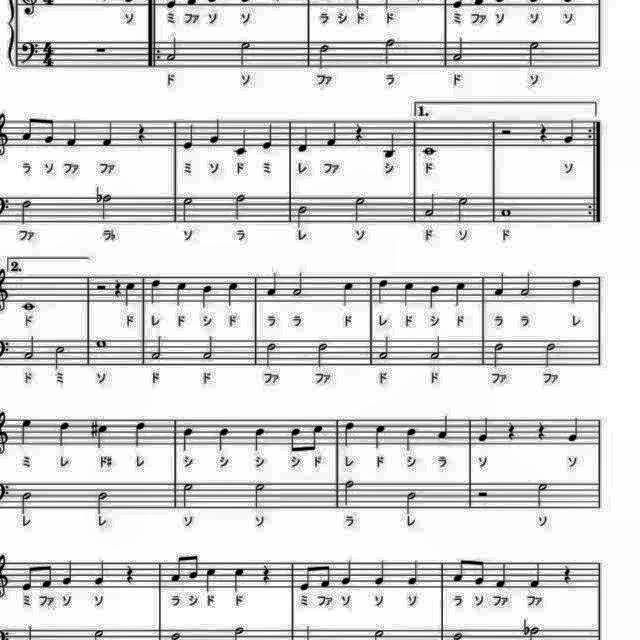Bass-clef: (19, 40, 41, 68)
Diez: (112, 278, 125, 302)
Eighth-note: (309, 422, 327, 454), (168, 552, 186, 584), (41, 116, 58, 148), (19, 114, 36, 146), (450, 555, 468, 585), (39, 558, 55, 590), (286, 423, 302, 455), (318, 560, 334, 592), (20, 562, 36, 594), (184, 551, 200, 581), (470, 556, 486, 586), (296, 562, 312, 592)
Full-note: (20, 301, 40, 315), (498, 204, 514, 220), (421, 144, 439, 158), (95, 336, 109, 352)
Half-note: (532, 478, 552, 510), (452, 193, 472, 224), (351, 192, 369, 225), (233, 190, 251, 222), (527, 40, 545, 72), (263, 339, 281, 369), (543, 339, 561, 369), (316, 340, 334, 370), (448, 37, 466, 67), (92, 488, 111, 516), (180, 193, 197, 224), (236, 40, 252, 72), (18, 196, 34, 228), (379, 34, 396, 64), (253, 481, 270, 511), (182, 481, 198, 512), (342, 478, 358, 508), (318, 43, 334, 73), (290, 269, 306, 299), (519, 269, 535, 299), (165, 36, 182, 64), (490, 342, 506, 371), (22, 334, 38, 362), (378, 334, 394, 362), (148, 334, 164, 362), (296, 202, 312, 230), (428, 334, 444, 362), (422, 192, 438, 220), (53, 342, 69, 370), (202, 334, 218, 362), (404, 488, 421, 514), (100, 192, 114, 222), (18, 488, 34, 514)
Half-rest: (476, 487, 492, 501), (93, 44, 111, 56), (498, 125, 514, 138), (95, 279, 109, 293)
Quarter-note: (566, 274, 586, 306), (380, 128, 400, 160), (130, 418, 150, 449), (92, 421, 111, 452), (560, 116, 578, 148), (375, 274, 393, 306), (173, 278, 191, 310), (19, 414, 37, 446), (492, 558, 510, 590), (399, 278, 416, 310), (341, 418, 359, 448), (56, 421, 74, 451), (434, 413, 452, 443), (373, 421, 391, 451), (527, 560, 545, 590), (564, 415, 582, 445), (406, 558, 424, 588), (99, 119, 117, 149), (233, 128, 251, 158), (340, 278, 358, 308), (215, 423, 233, 452), (63, 119, 81, 148), (476, 414, 492, 446), (297, 124, 313, 156), (180, 120, 196, 152), (324, 118, 340, 150), (261, 120, 277, 152), (124, 278, 140, 310), (200, 282, 217, 312), (231, 566, 249, 594), (179, 424, 197, 452), (250, 424, 268, 452), (146, 276, 162, 306), (206, 116, 222, 146), (452, 277, 468, 307), (92, 557, 108, 587), (224, 278, 240, 308), (371, 558, 387, 588), (340, 557, 356, 587), (60, 557, 76, 587), (404, 424, 421, 452), (492, 270, 508, 298), (265, 270, 281, 298), (426, 281, 442, 309), (204, 566, 220, 594)
Quarter-rest: (134, 120, 150, 146), (260, 559, 276, 585), (504, 418, 520, 442), (533, 418, 549, 442), (352, 119, 366, 145), (534, 122, 550, 144), (124, 560, 138, 584), (560, 562, 574, 586)
